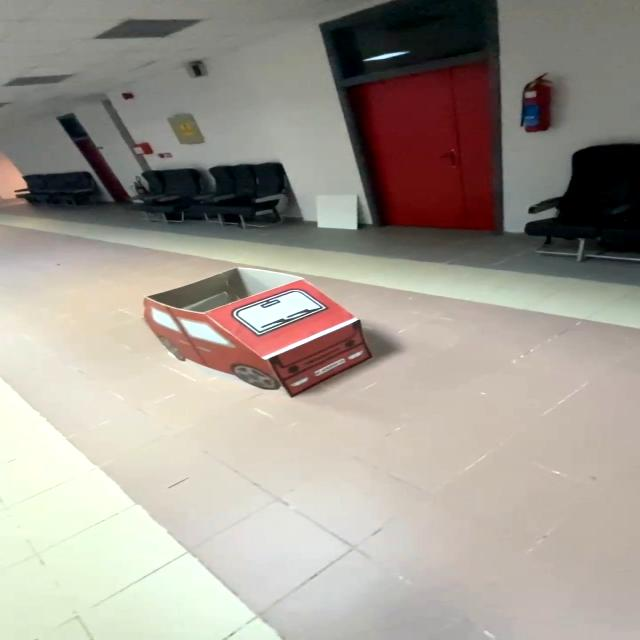red_car: (112, 256, 412, 411)
